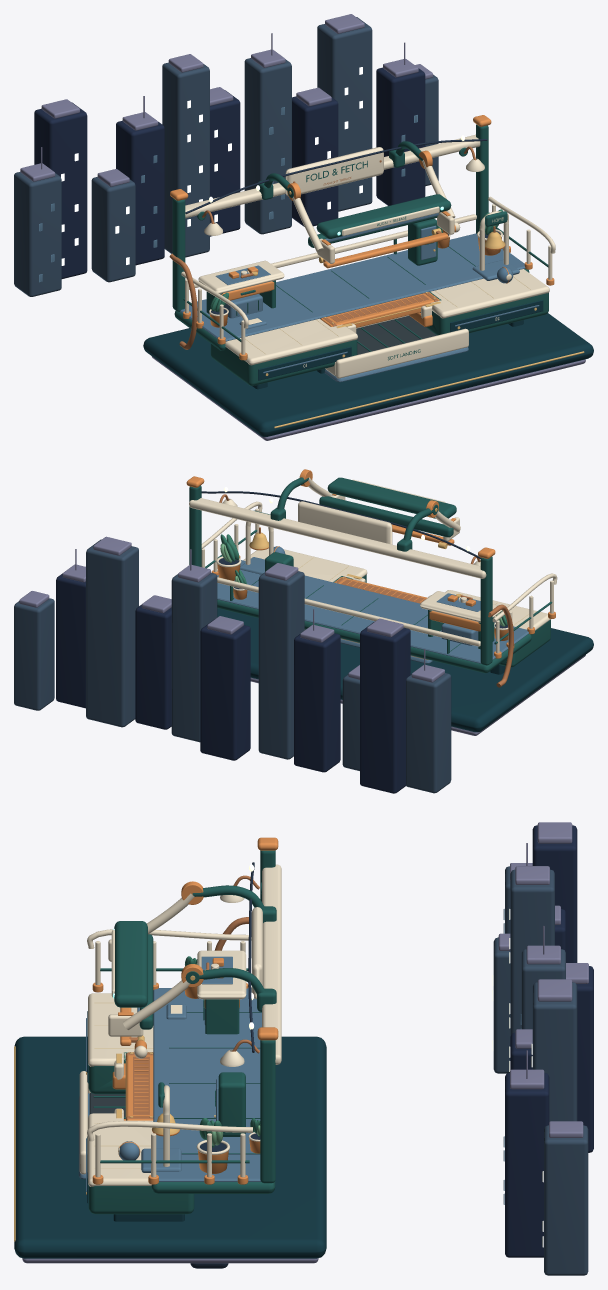
File: 03-terrace-assembled.glb
The picture shows the model from 3 angles, top to bottom: view 1: azimuth 30°, elevation 25°; view 2: azimuth 150°, elevation 25°; view 3: azimuth 270°, elevation 25°; orthographic projection. The views are drawn at different scales.
Visible parts, largest first — view 1: distant_city_mesh, rooftop_base_mesh, workshop_frame_mesh, floor_left_mesh, floor_right_mesh, recovery_tray_mesh, upper_chute_mesh, repair_bench_mesh, service_cables_mesh, roof_rails_mesh, bridge_beam_mesh, exit_bell_mesh (+3 smaller); view 2: distant_city_mesh, rooftop_base_mesh, workshop_frame_mesh, upper_chute_mesh, repair_bench_mesh, roof_rails_mesh, service_cables_mesh, floor_left_mesh, floor_right_mesh, planters_mesh, exit_bell_mesh, bridge_beam_mesh; view 3: rooftop_base_mesh, distant_city_mesh, workshop_frame_mesh, floor_right_mesh, upper_chute_mesh, roof_rails_mesh, floor_left_mesh, repair_bench_mesh, service_cables_mesh, bridge_beam_mesh, recovery_tray_mesh, planters_mesh (+2 smaller).
Boxes of the visible parts, x1,y1,x2,y2 form: distant_city_mesh: (14,14,438,296); rooftop_base_mesh: (143,233,593,440); workshop_frame_mesh: (170,115,491,311); floor_left_mesh: (210,318,357,389); floor_right_mesh: (426,269,549,335); recovery_tray_mesh: (324,315,468,382); upper_chute_mesh: (287,150,455,263); repair_bench_mesh: (198,260,284,318); service_cables_mesh: (169,135,487,349); roof_rails_mesh: (181,196,555,360); bridge_beam_mesh: (320,292,439,327); exit_bell_mesh: (472,211,519,280); distant_city_mesh: (14,536,451,793); rooftop_base_mesh: (217,560,593,735); workshop_frame_mesh: (186,476,495,665); upper_chute_mesh: (299,469,460,541); repair_bench_mesh: (420,591,502,649); roof_rails_mesh: (201,501,557,658); service_cables_mesh: (201,487,513,687); floor_left_mesh: (445,590,550,674); floor_right_mesh: (243,548,367,582); planters_mesh: (216,534,508,640); exit_bell_mesh: (240,510,273,574); bridge_beam_mesh: (334,576,427,603); rooftop_base_mesh: (14,988,326,1268); distant_city_mesh: (492,822,593,1275); workshop_frame_mesh: (192,837,281,1183); floor_right_mesh: (86,1113,194,1221); upper_chute_mesh: (108,881,203,1036); roof_rails_mesh: (87,929,252,1184); floor_left_mesh: (86,993,153,1094); repair_bench_mesh: (197,950,246,1034); service_cables_mesh: (214,862,254,1136); bridge_beam_mesh: (125,1052,153,1120); recovery_tray_mesh: (78,1071,125,1179); planters_mesh: (184,956,260,1173).
Size of the model in its own units: 11.31 by 5.6 by 10.41.
